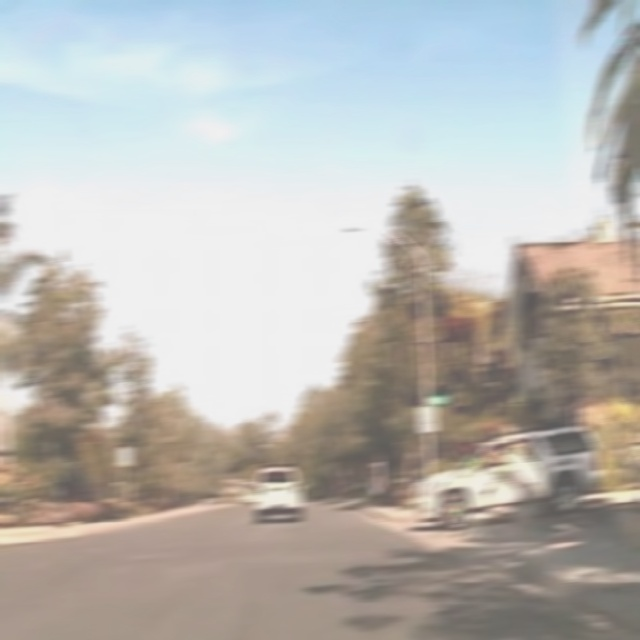speedLimitUrdbl: (418, 403, 437, 433)
